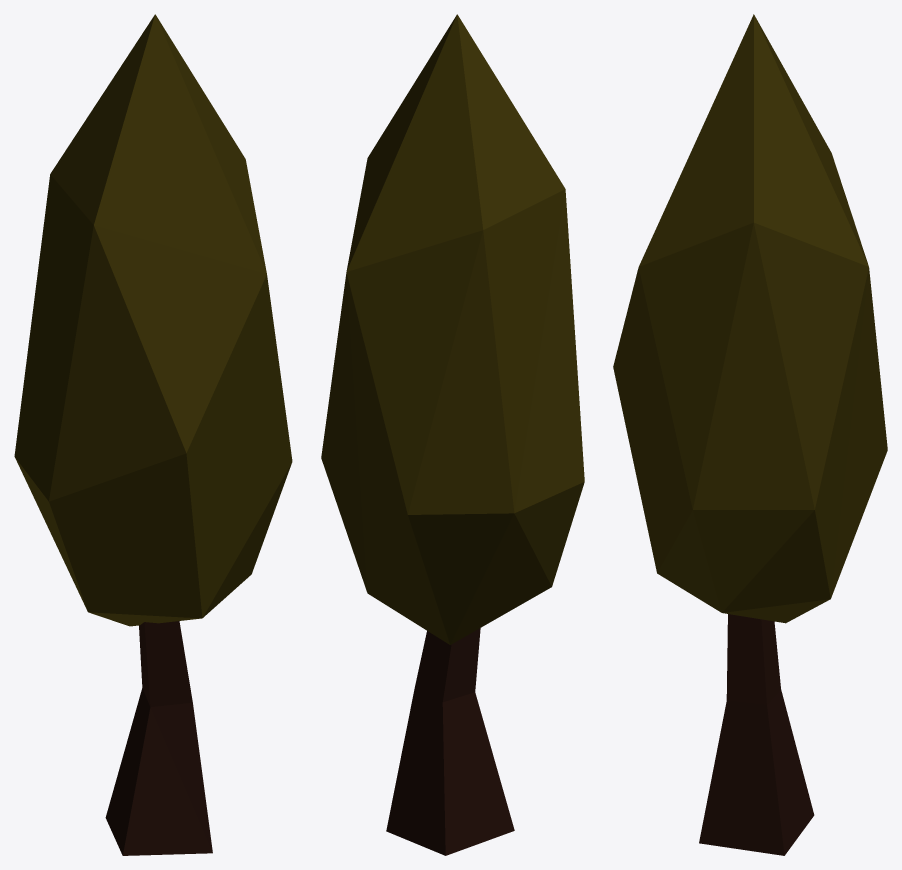
Rendered from PointyTree2.fbx.glb.
3 views of the same model, side by side, from view 1: azimuth 30°, elevation 25°; view 2: azimuth 150°, elevation 25°; view 3: azimuth 270°, elevation 25° (orthographic).
Parts seen in each view (by area): view 1: PointyTree2; view 2: PointyTree2; view 3: PointyTree2.
Part boxes in pixels (x1,y1,x2,y2): PointyTree2: [14, 14, 292, 855]; PointyTree2: [321, 14, 584, 855]; PointyTree2: [613, 14, 887, 855].
Size of the model in its own units: 106 by 373 by 114.
